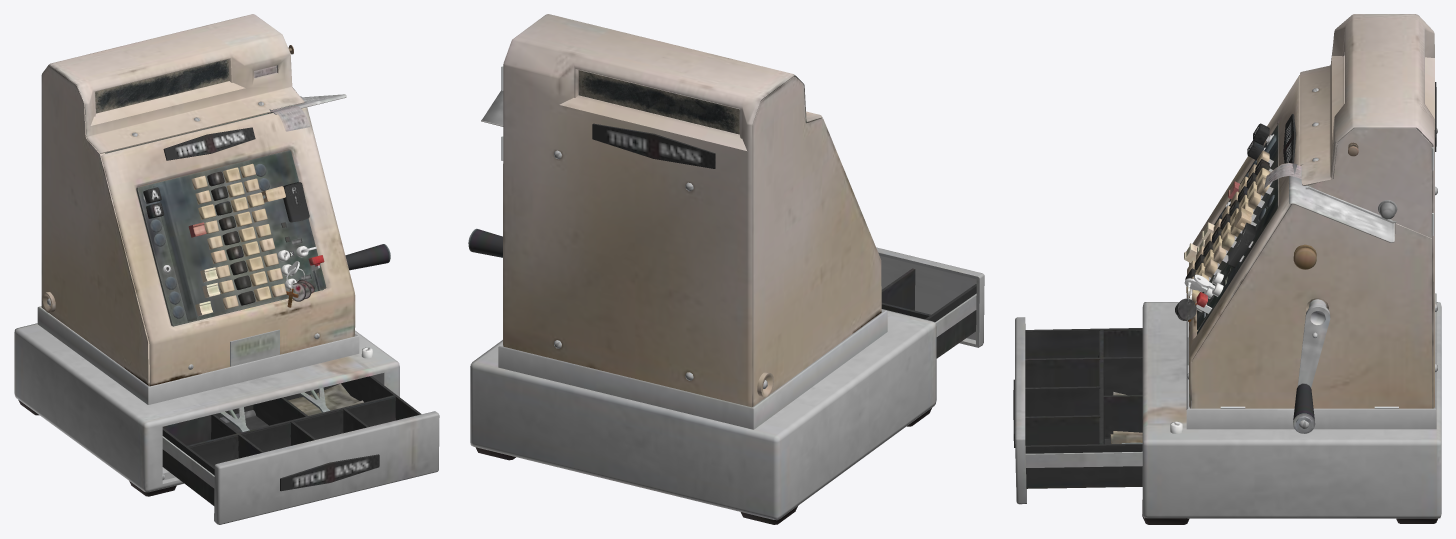
The model's file is CashRegister_01.glb.
3 views of the same model, side by side, from view 1: azimuth 30°, elevation 25°; view 2: azimuth 150°, elevation 25°; view 3: azimuth 270°, elevation 25° (orthographic). The views are drawn at different scales.
Size of the model in its own units: 0.6005 by 0.6211 by 0.6242.
2 materials, 2 textured.
